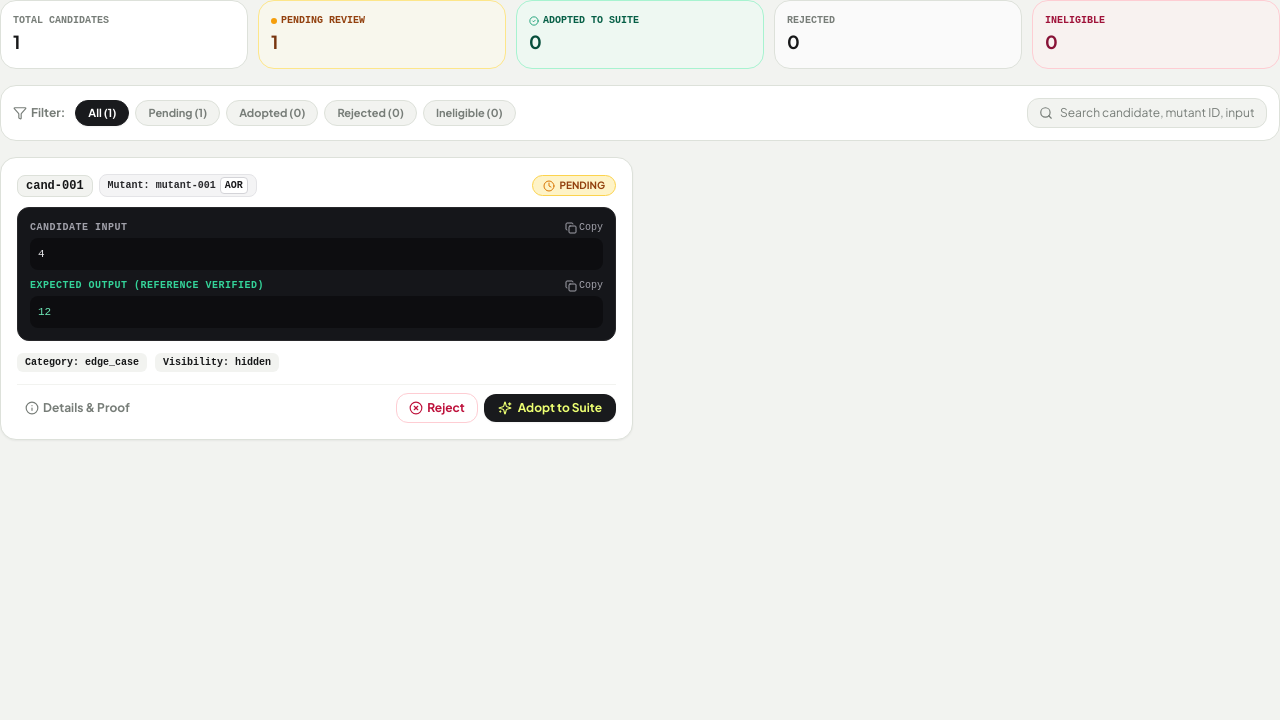
Test: Phase 4A.2.3: Candidate Adoption UI & Client Integration Test Suite › 11. 409 lock conflict handling: displays conflict explanation and retry button when locked by another adoption
Click the button "Adopt to Suite": click(550, 408) [484, 394, 616, 422]
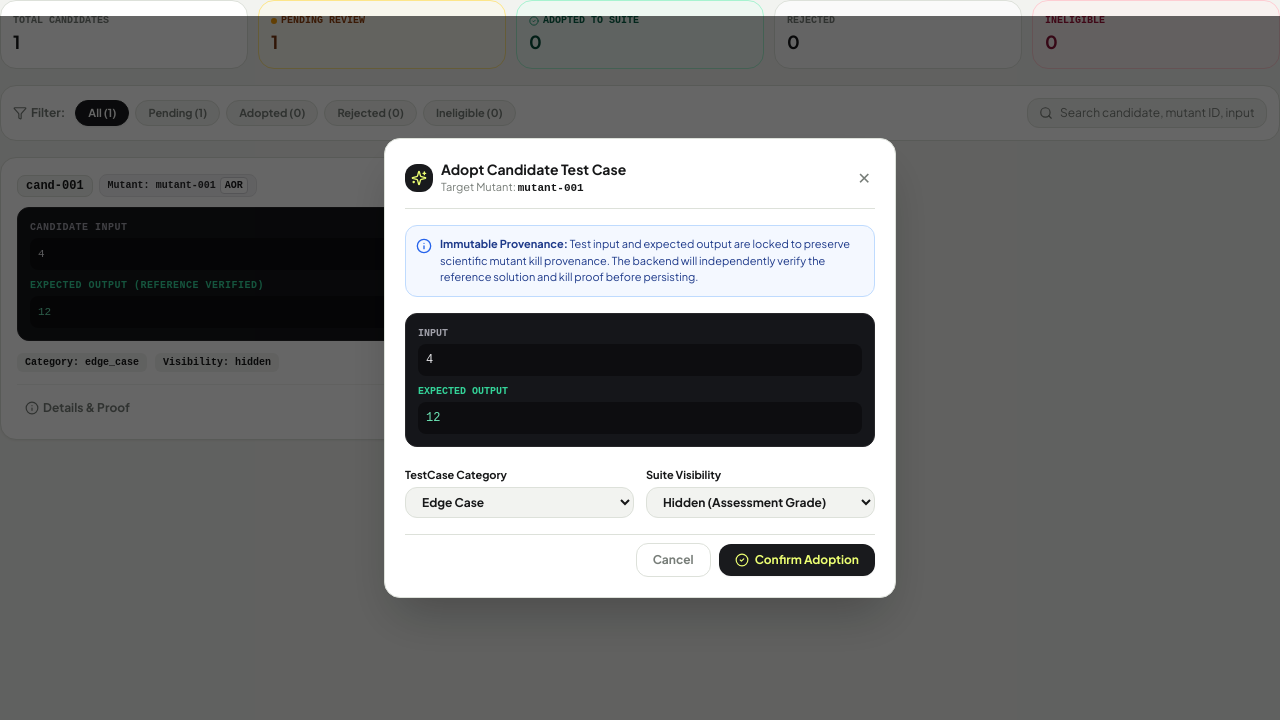
Click the button "Confirm Adoption": click(797, 560) [719, 544, 875, 576]
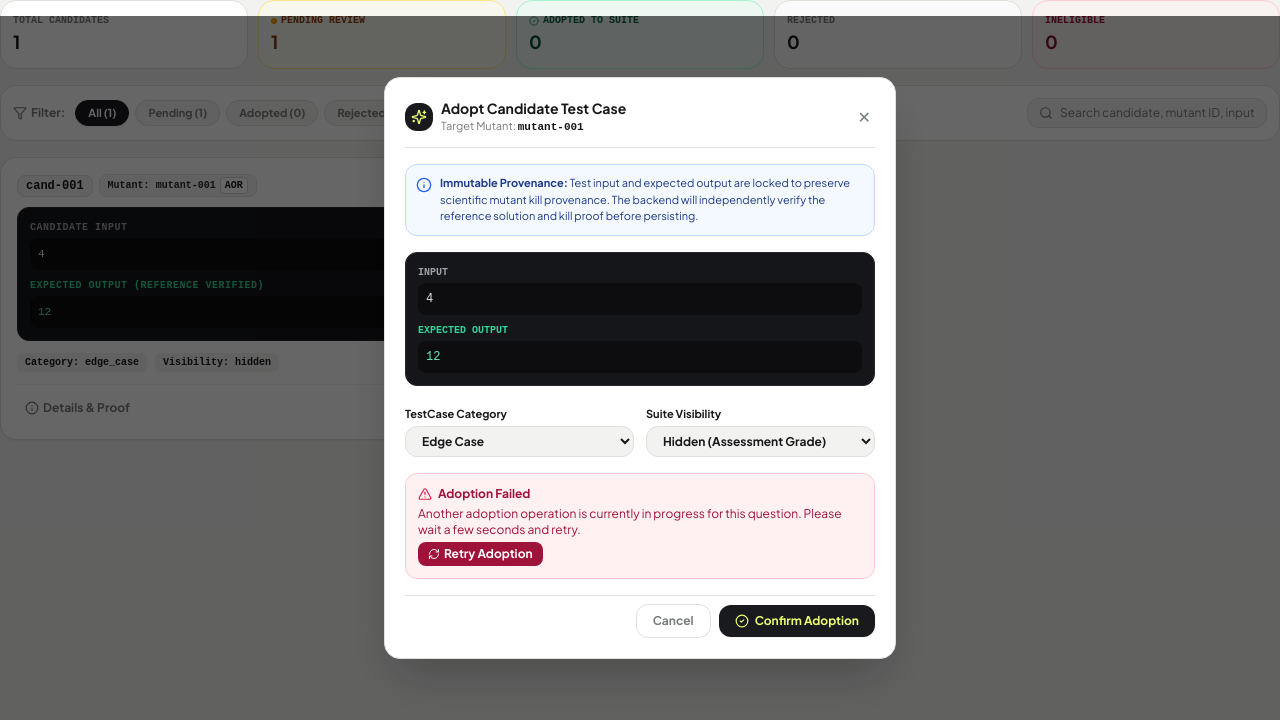
Expected: the text "Another adoption operation is currently in progress" is shown, [418, 506, 842, 537]
Expected: the button "Retry Adoption" is shown, [418, 542, 543, 566]
